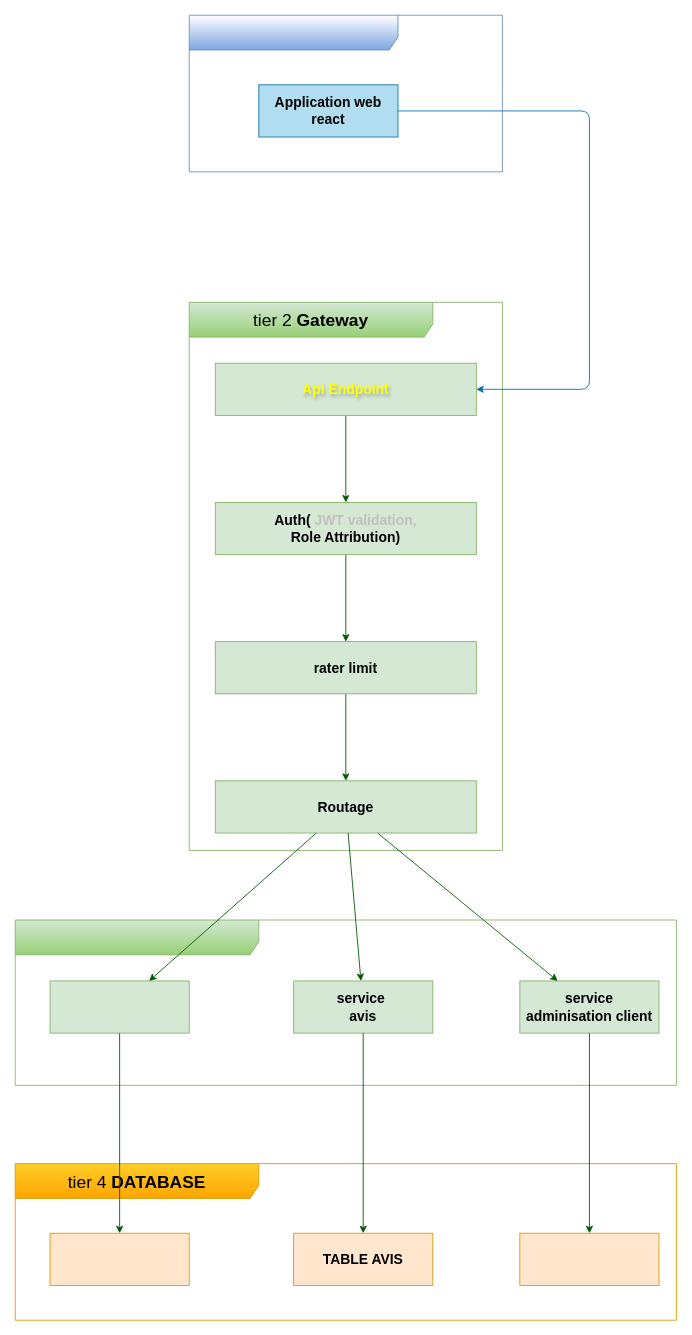
This 692x1335 diagram has some shape labels left out. The shapes that lost their labels are listed below. From the top down, each one's box as (x1, y1, x2, y2) in pixels, then its label:
(188, 14, 502, 172): tier 1 CLIENT
(49, 980, 189, 1033): service reservation
(14, 919, 676, 1085): tier 3 SERVICE
(49, 1232, 189, 1285): TABLE RESERVATION
(519, 1232, 659, 1285): DB
